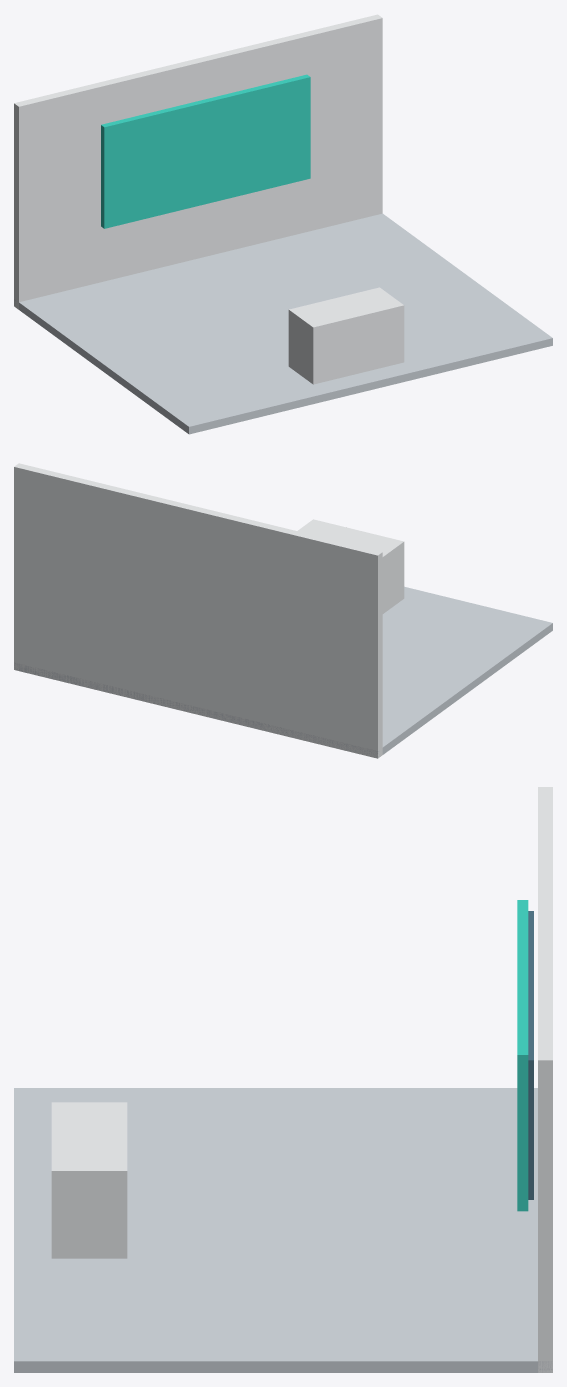
The picture shows the model from 3 angles, top to bottom: view 1: azimuth 30°, elevation 25°; view 2: azimuth 150°, elevation 25°; view 3: azimuth 270°, elevation 25°; orthographic projection. The views are drawn at different scales.
Visible parts, largest first — view 1: Exhibition Booth Concept; view 2: Exhibition Booth Concept; view 3: Exhibition Booth Concept.
Part boxes in pixels (<box>): Exhibition Booth Concept: <box>14,14,552,434</box>; Exhibition Booth Concept: <box>14,463,552,758</box>; Exhibition Booth Concept: <box>14,787,552,1372</box>.
Size of the model in its own units: 6 by 3.2 by 5.
